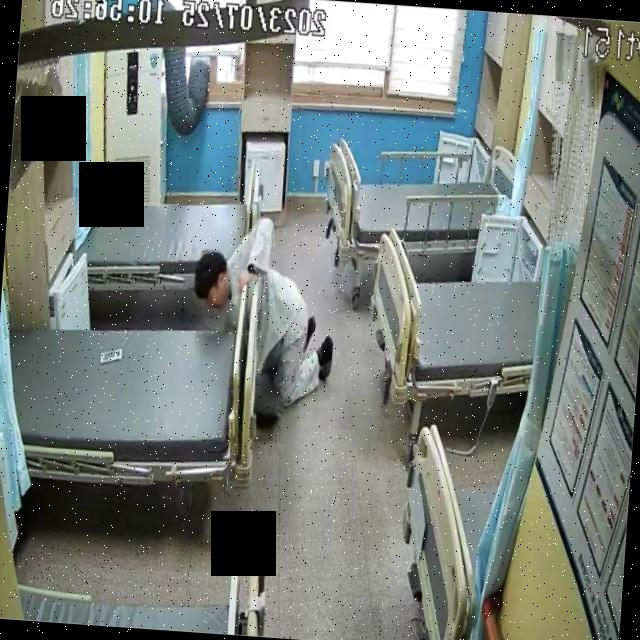bed: (0, 305, 243, 495), (360, 226, 544, 415), (324, 134, 517, 268), (72, 166, 261, 300)
fall: (185, 215, 341, 411)
patient: (184, 214, 340, 412)
